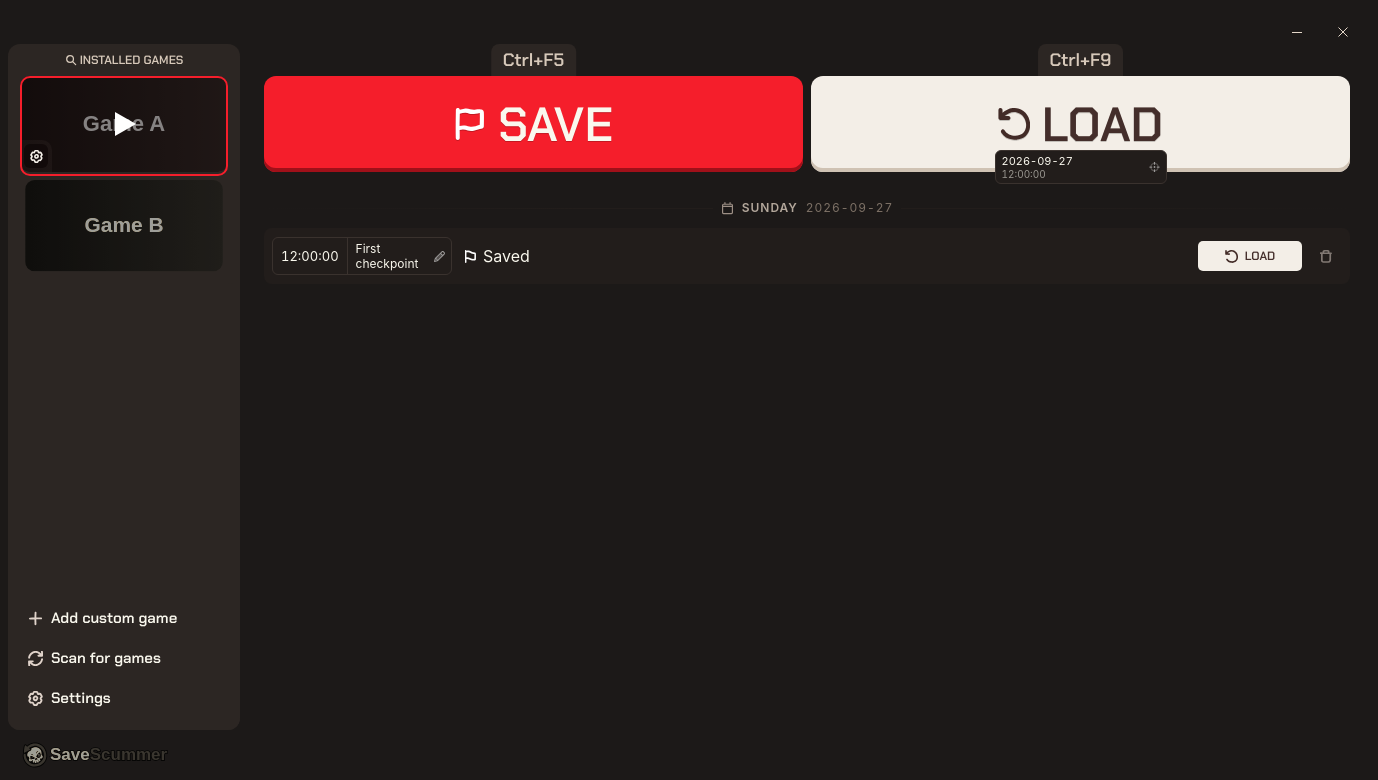
it: host rejection is shown on the initiating control
What coordinates should you click on to do the following:
click the button with aria-label "load Game A"
I would click on:
 (1080, 124)
Its box is [811,76,1350,172].
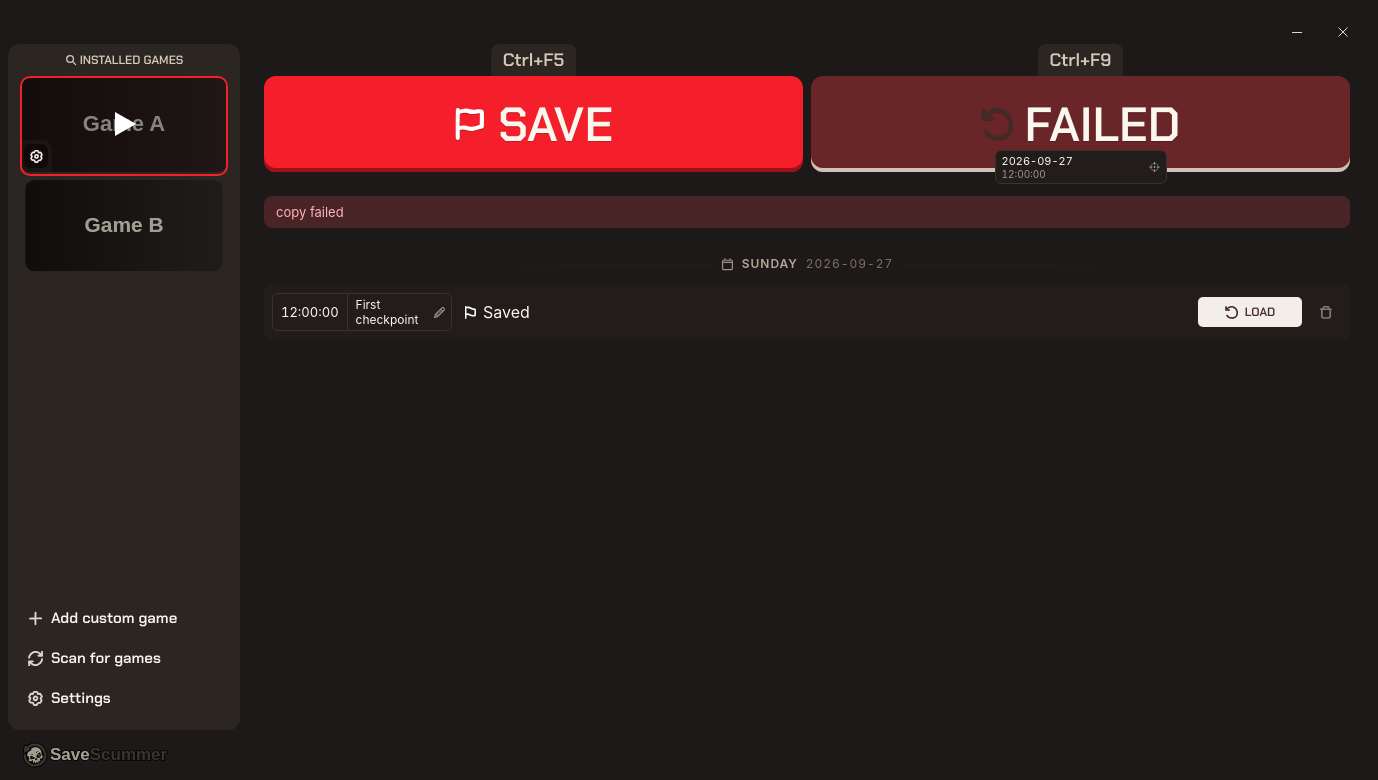
Expected: the text "FAILED" is shown, [981,92,1180,156]
Expected: the message reads "copy failed", [276,204,344,220]
